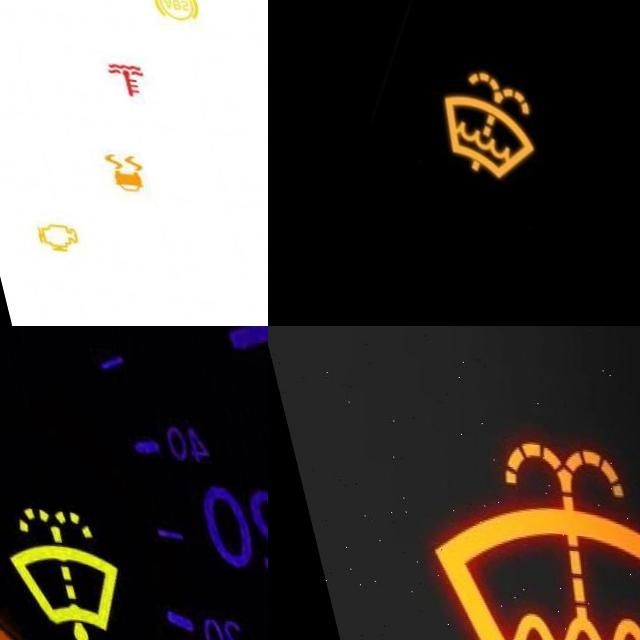Washer Fluid: (395, 427, 640, 640), (0, 497, 119, 638), (418, 59, 532, 175)
